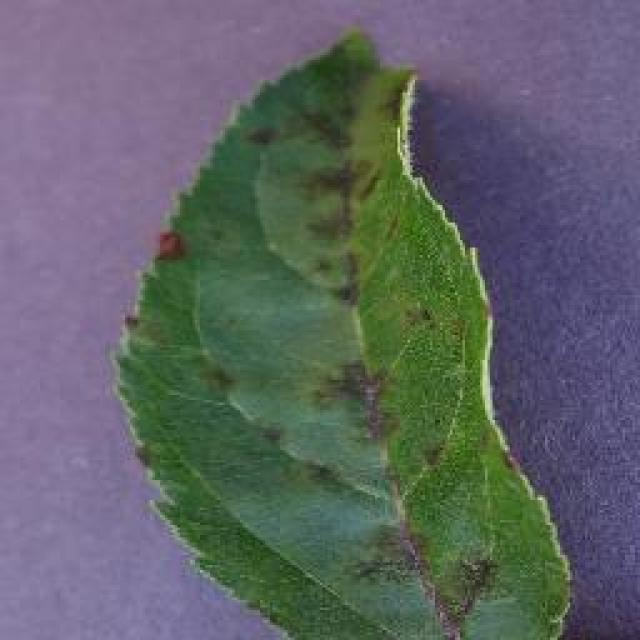apple scab disease: (110, 25, 575, 637)
